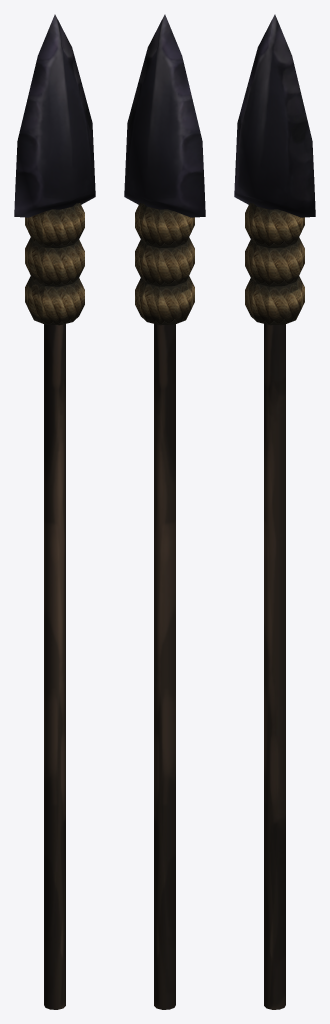
File: spear.FBX
3 renders of one model, left to right at view 1: azimuth 30°, elevation 25°; view 2: azimuth 150°, elevation 25°; view 3: azimuth 330°, elevation 25°, orthographic.
Parts seen in each view (by area): view 1: Cylinder001; view 2: Cylinder001; view 3: Cylinder001.
Boxes of the visible parts, x1,y1,x2,y2 form: Cylinder001: (14,14,95,1009); Cylinder001: (124,14,205,1009); Cylinder001: (234,14,315,1009).
Bounding box in the file's own units: 6.61 × 76.8 × 5.33.
